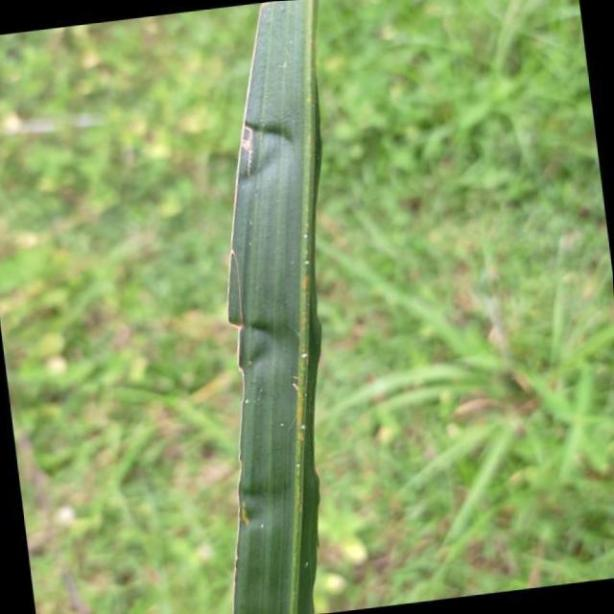Boron: (224, 0, 326, 614)
